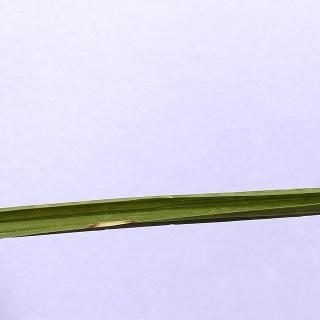Blast: (89, 208, 145, 236)
